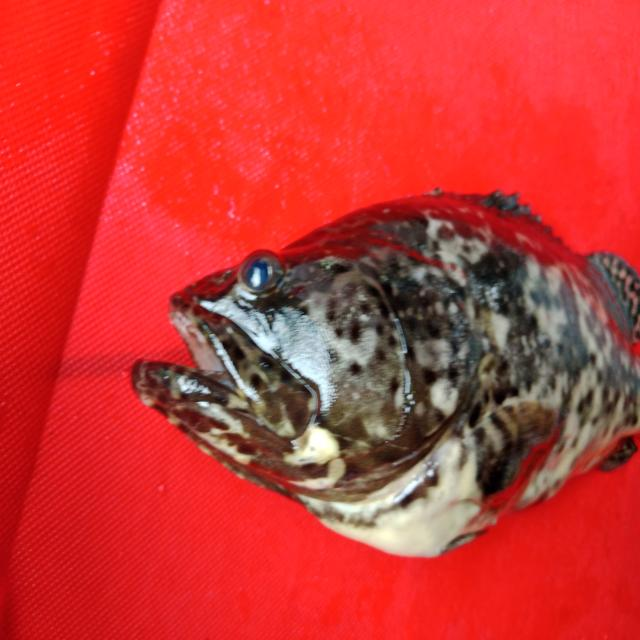ikan: (112, 165, 628, 571)
